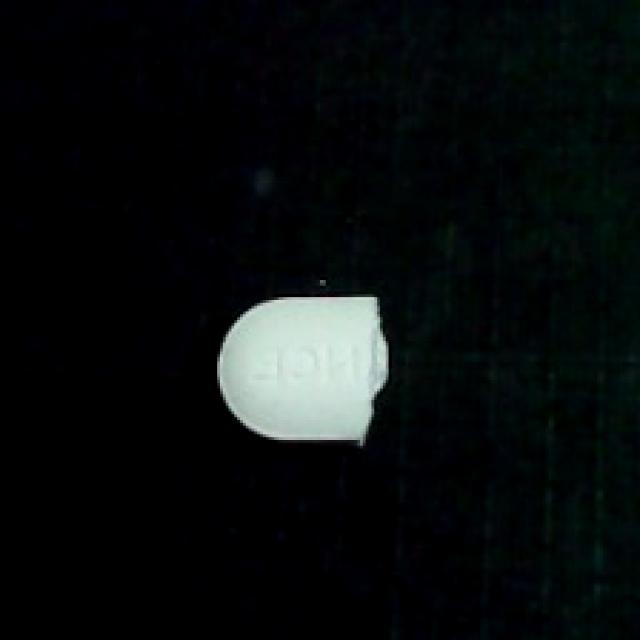defected: (209, 283, 394, 451)
